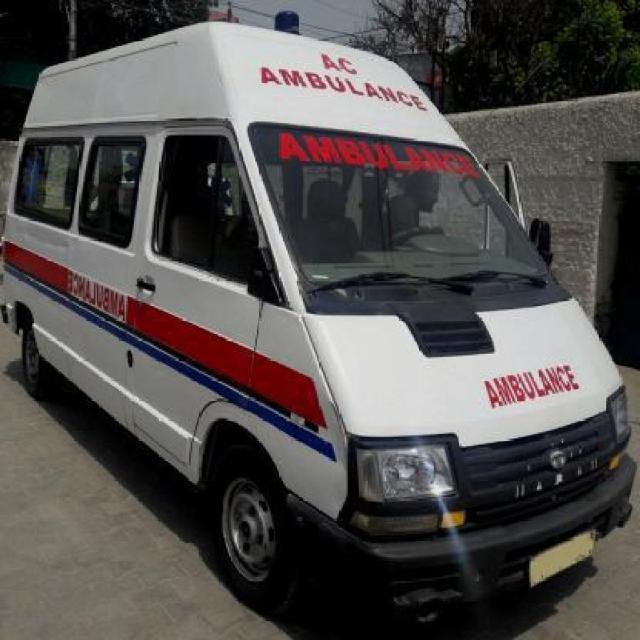emergency: (2, 11, 638, 629)
